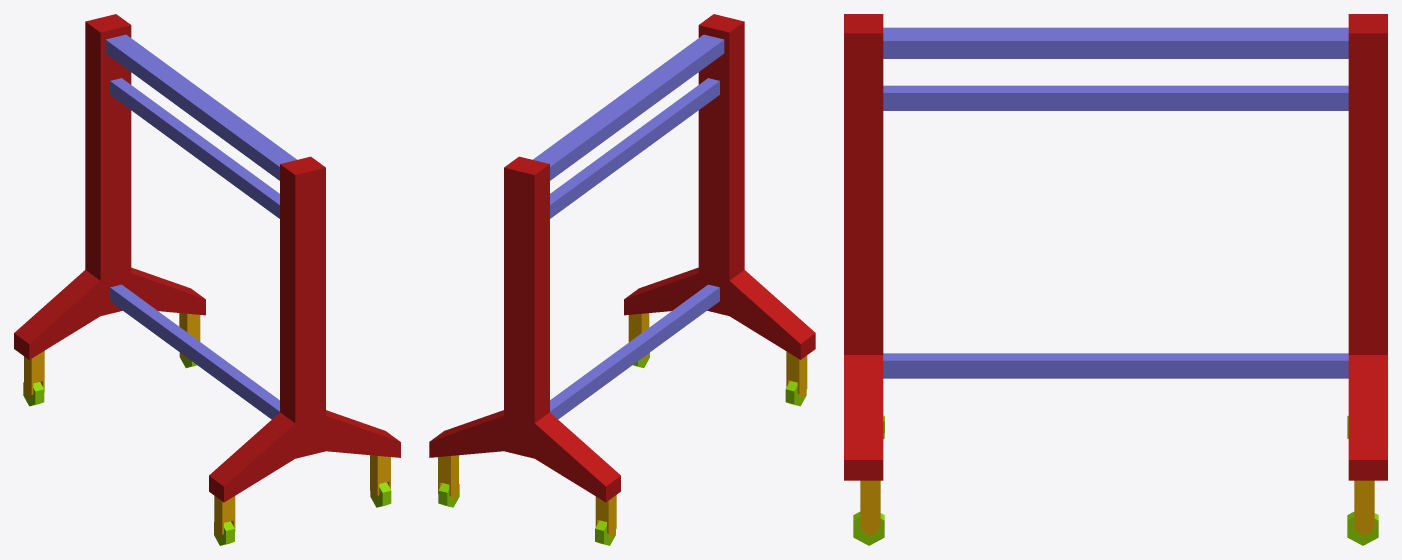
The model's file is clothes_holder_fbx.fbx.
The picture shows the model from 3 angles, left to right: view 1: azimuth 30°, elevation 25°; view 2: azimuth 150°, elevation 25°; view 3: azimuth 270°, elevation 25°; orthographic projection. The views are drawn at different scales.
Visible parts, largest first — view 1: right_hanger_part, left_hanger_part, connector_top, middle_hanger_connector, bottom_hanger_part, roller_holder, roller_holder3, roller_holder1, roller_holder2; view 2: left_hanger_part, right_hanger_part, connector_top, middle_hanger_connector, bottom_hanger_part, roller_holder2, roller_holder1, roller_holder3, roller_holder; view 3: left_hanger_part, right_hanger_part, connector_top, middle_hanger_connector, bottom_hanger_part, roller_holder, roller_holder2.
Boxes of the visible parts, x1,y1,x2,y2 form: right_hanger_part: (209,156,400,502); left_hanger_part: (14,14,205,359); connector_top: (105,34,296,180); middle_hanger_connector: (110,78,279,218); bottom_hanger_part: (110,284,279,419); roller_holder: (370,455,390,499); roller_holder3: (24,351,44,398); roller_holder1: (214,496,235,538); roller_holder2: (179,313,200,360); left_hanger_part: (429,156,620,502); right_hanger_part: (624,14,815,359); connector_top: (533,34,724,180); middle_hanger_connector: (550,78,719,218); bottom_hanger_part: (550,284,719,419); roller_holder2: (438,455,458,500); roller_holder1: (786,351,807,398); roller_holder3: (595,495,616,537); roller_holder: (628,313,649,360); left_hanger_part: (1348,14,1387,480); right_hanger_part: (844,14,883,480); connector_top: (883,27,1348,58); middle_hanger_connector: (883,85,1348,110); bottom_hanger_part: (883,353,1348,378); roller_holder: (860,480,880,536); roller_holder2: (1354,480,1374,536).
Bounding box in the file's own units: 2 × 3.91 × 4.11.
